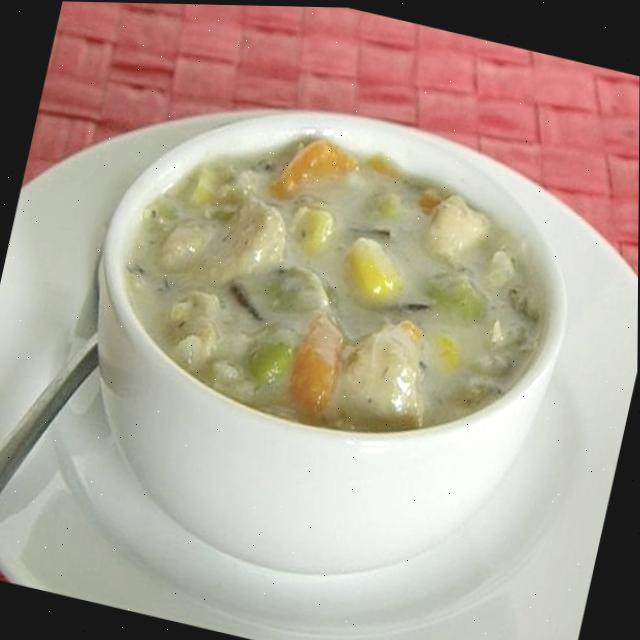汤锅炖物: (26, 41, 616, 593)
